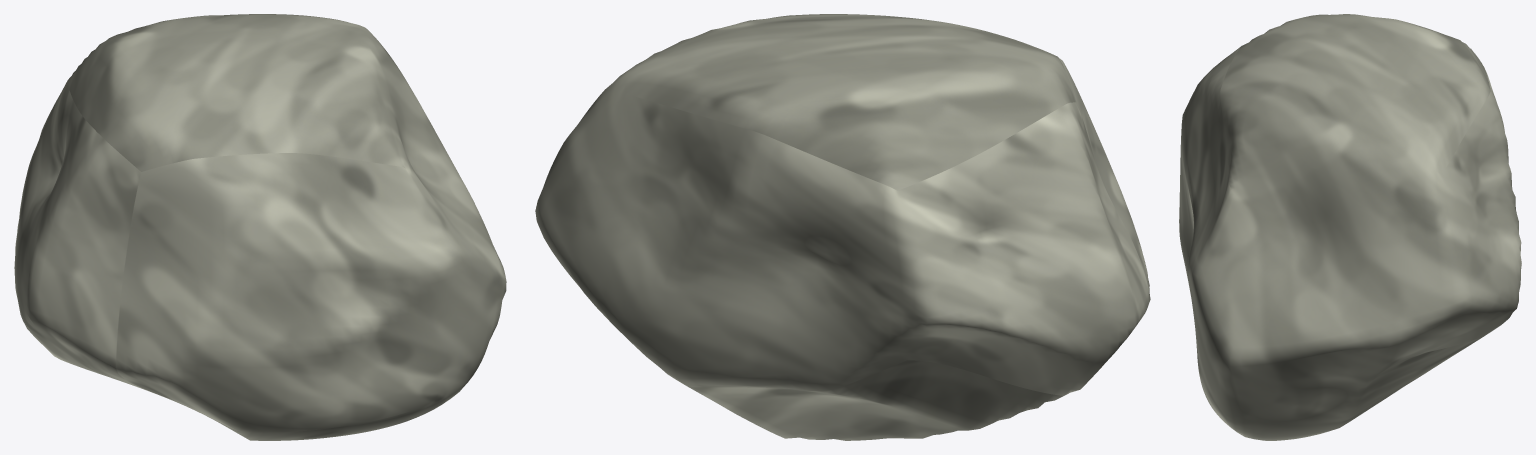
The model's file is Rock5.fbx.
The picture shows the model from 3 angles, left to right: view 1: azimuth 30°, elevation 25°; view 2: azimuth 150°, elevation 25°; view 3: azimuth 270°, elevation 25°; orthographic projection. The views are drawn at different scales.
Visible parts, largest first — view 1: Cube.004; view 2: Cube.004; view 3: Cube.004.
Boxes of the visible parts, x1,y1,x2,y2 form: Cube.004: (14, 14, 506, 440); Cube.004: (535, 14, 1150, 440); Cube.004: (1179, 14, 1521, 440).
Bounding box in the file's own units: 154 × 117 × 110.
1 material, 1 textured.
